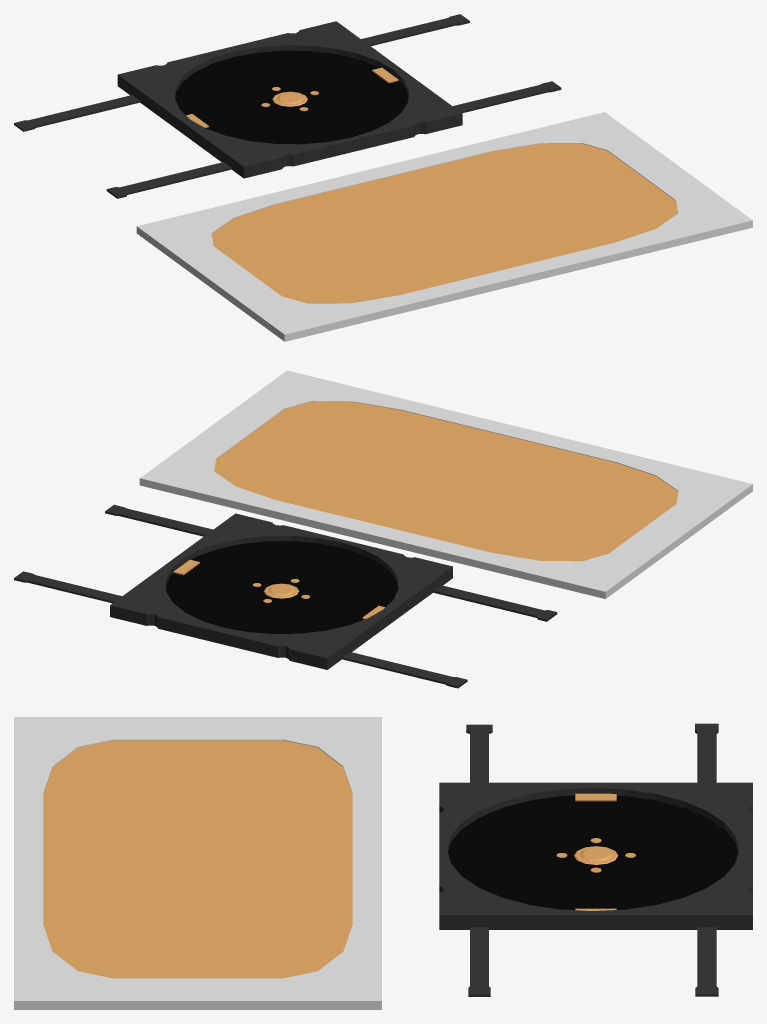
The model's file is Chip.fbx.
The picture shows the model from 3 angles, top to bottom: view 1: azimuth 30°, elevation 25°; view 2: azimuth 150°, elevation 25°; view 3: azimuth 270°, elevation 25°; orthographic projection. The views are drawn at different scales.
Visible parts, largest first — view 1: Chip; view 2: Chip; view 3: Chip.
Part boxes in pixels (left/top/right/bottom): Chip: left=14, top=14, right=752, bottom=341; Chip: left=14, top=370, right=752, bottom=688; Chip: left=14, top=717, right=752, bottom=1009.
Bounding box in the file's own units: 185 × 6.78 × 204.
